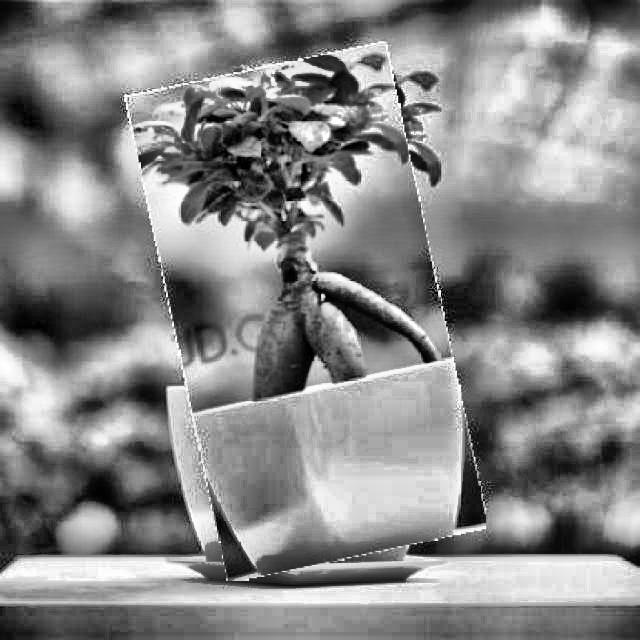plants: (149, 52, 465, 571)
